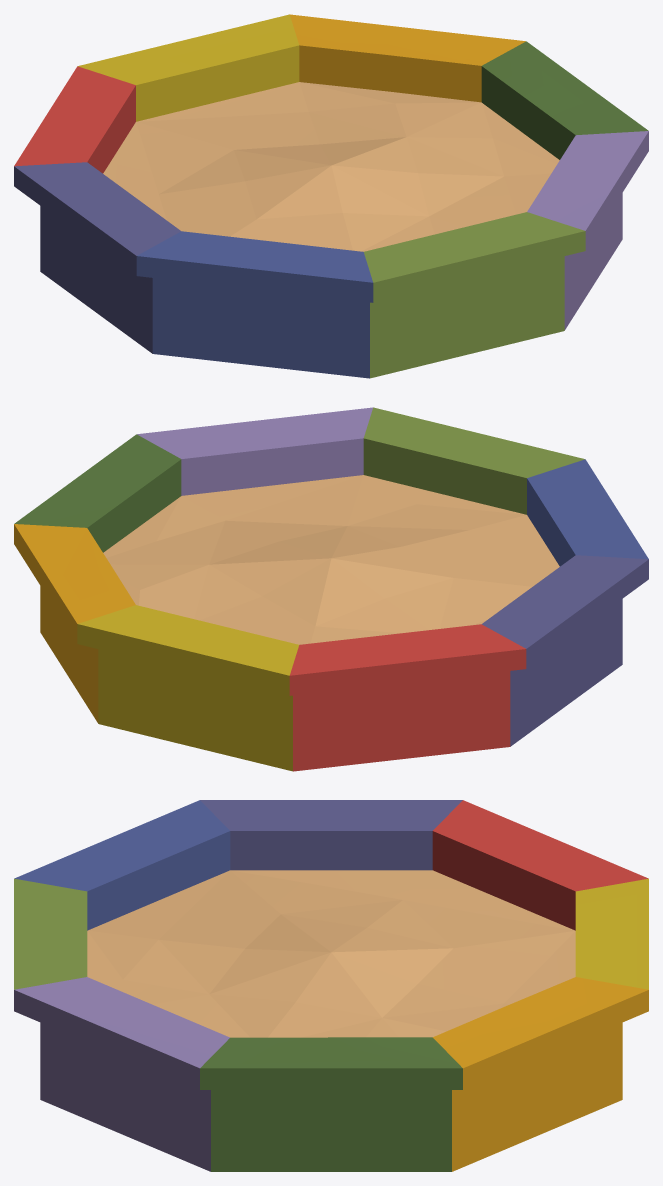
Rendered from Playground_02.fbx.
The picture shows the model from 3 angles, top to bottom: view 1: azimuth 30°, elevation 25°; view 2: azimuth 150°, elevation 25°; view 3: azimuth 270°, elevation 25°; orthographic projection. The views are drawn at different scales.
Visible parts, largest first — view 1: Playground_02; view 2: Playground_02; view 3: Playground_02.
Boxes of the visible parts, box(x1,y1,x2,y2) form: Playground_02: box(14, 14, 648, 378); Playground_02: box(14, 407, 648, 771); Playground_02: box(14, 800, 648, 1171).
Bounding box in the file's own units: 134 × 26.78 × 134.
